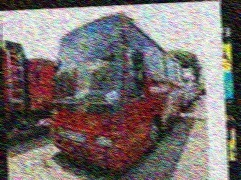bus: (44, 7, 191, 179)
